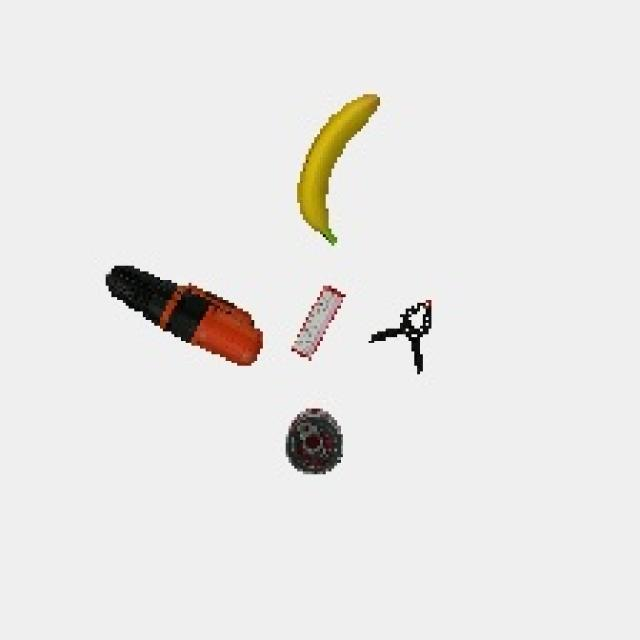Banana: (290, 91, 390, 253)
GelatinBox: (288, 280, 349, 368)
MediumClamp: (366, 293, 456, 379)
PowerDrill: (100, 259, 272, 385)
TomatoSoupCan: (279, 403, 354, 487)
